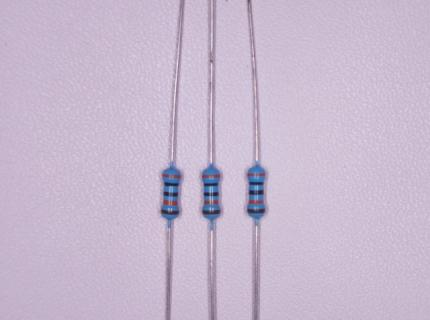Black band: (164, 192, 178, 197), (249, 190, 264, 194), (164, 182, 179, 186), (204, 183, 218, 187), (204, 193, 218, 196), (250, 182, 263, 185)
Brown band: (162, 209, 179, 215), (203, 211, 221, 215), (248, 209, 265, 213)
Orange band: (162, 174, 180, 178), (204, 200, 218, 205), (164, 200, 177, 205), (249, 200, 264, 204), (202, 175, 220, 178), (248, 173, 266, 176)
